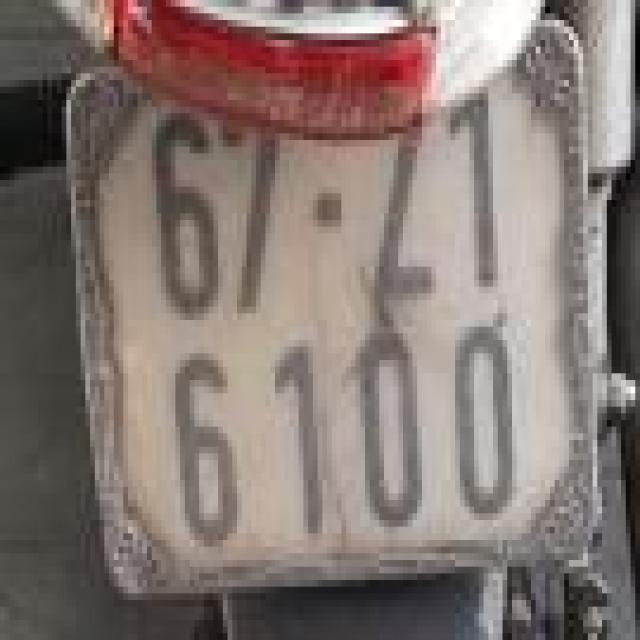0: (451, 310, 526, 537), (348, 327, 429, 533)
1: (268, 324, 334, 544), (446, 63, 507, 290)
6: (142, 93, 228, 327), (156, 343, 246, 550)
7: (223, 103, 289, 317)
Z: (360, 83, 441, 297)
